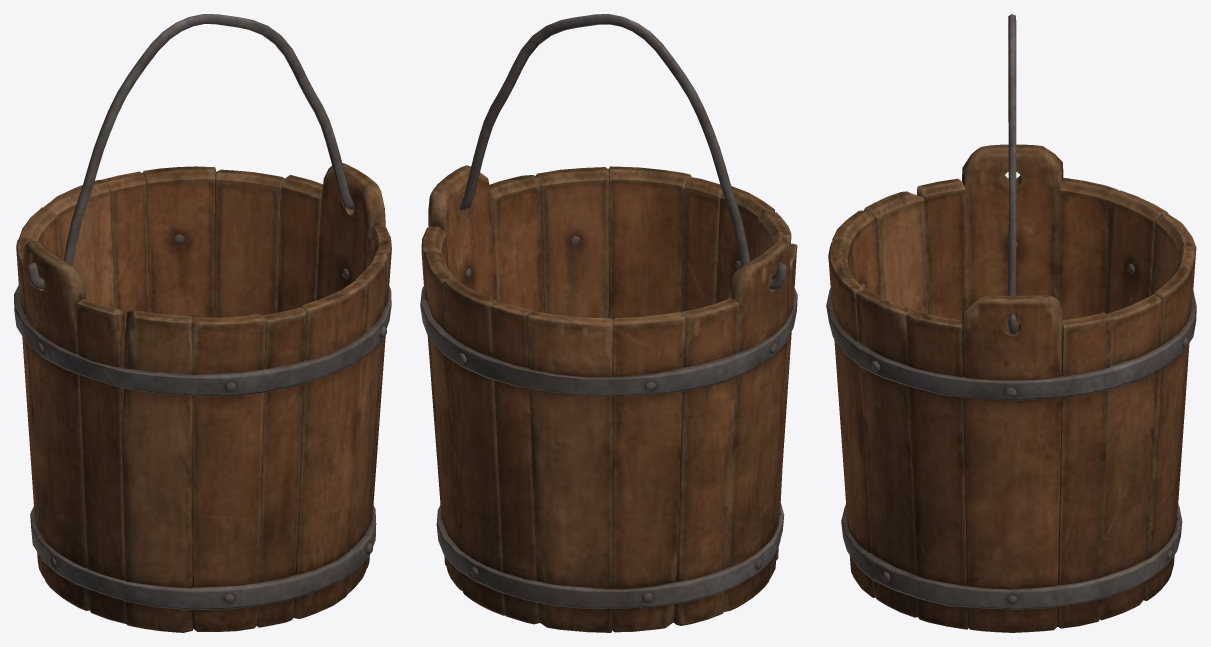
The model's file is wooden_bucket_01.gltf.
3 views of the same model, side by side, from view 1: azimuth 30°, elevation 25°; view 2: azimuth 150°, elevation 25°; view 3: azimuth 270°, elevation 25° (orthographic).
Parts seen in each view (by area): view 1: wooden_bucket_01, wooden_bucket_01_handle; view 2: wooden_bucket_01, wooden_bucket_01_handle; view 3: wooden_bucket_01, wooden_bucket_01_handle.
Boxes of the visible parts, <box> form: wooden_bucket_01: <box>14,163,391,632</box>; wooden_bucket_01_handle: <box>27,14,354,289</box>; wooden_bucket_01: <box>420,165,797,632</box>; wooden_bucket_01_handle: <box>437,14,786,289</box>; wooden_bucket_01: <box>826,144,1196,632</box>; wooden_bucket_01_handle: <box>1008,14,1016,335</box>.
Size of the model in its own units: 0.367 by 0.5499 by 0.3422.
1 material, 1 textured.
